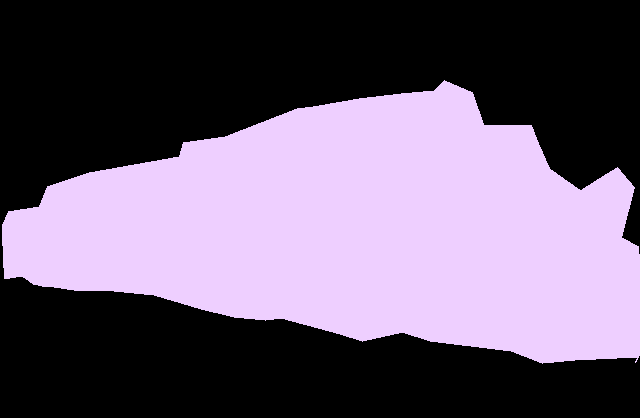Train: (2, 80, 640, 363)
